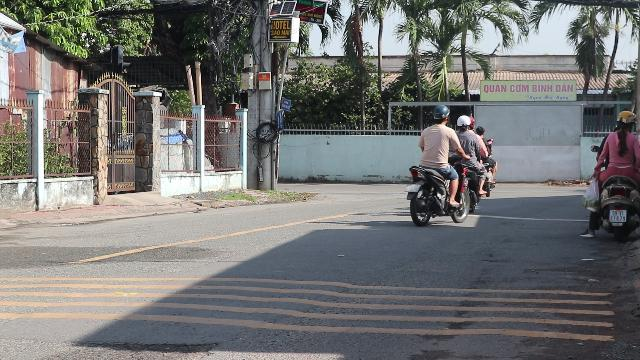helmet: (614, 109, 636, 130), (430, 104, 450, 124)
licenseplate: (610, 209, 626, 221), (406, 184, 420, 192)
motorcyclist: (581, 109, 639, 241), (403, 103, 463, 225)
